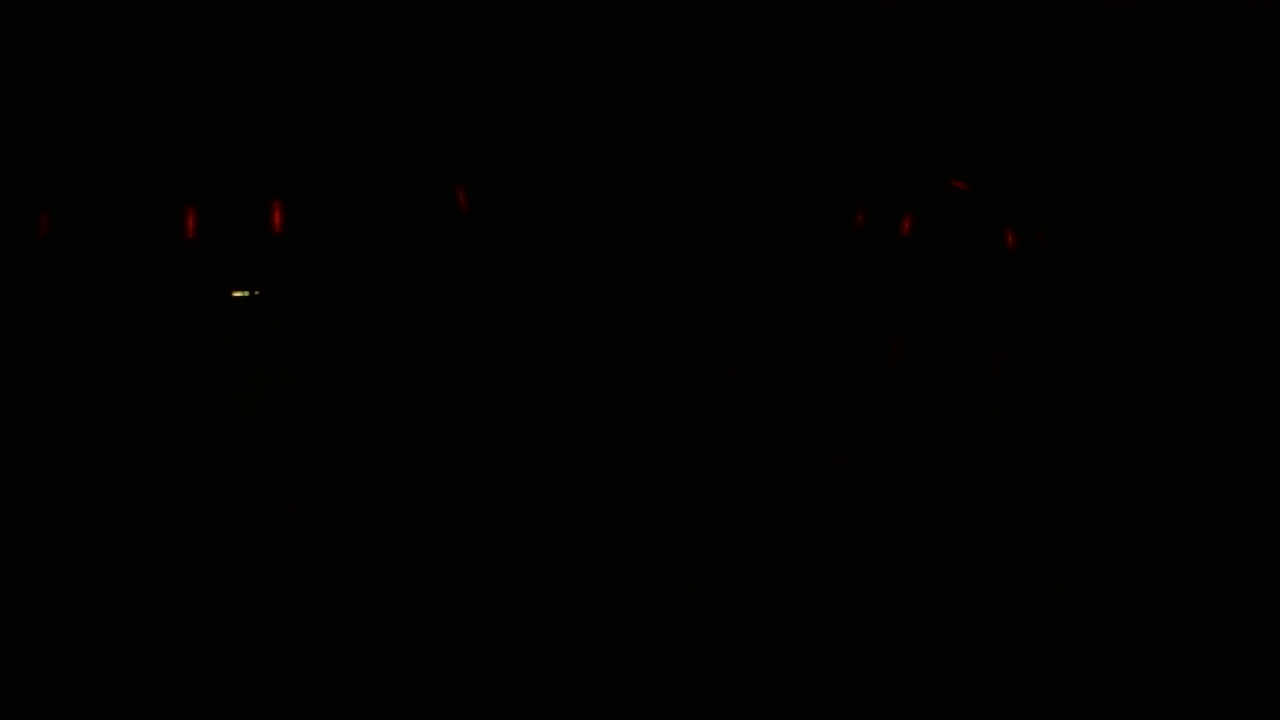pair1: (178, 198, 286, 241), (853, 205, 914, 235)
